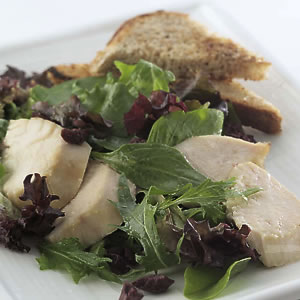slice of bread: (97, 11, 259, 81), (201, 81, 283, 129)
